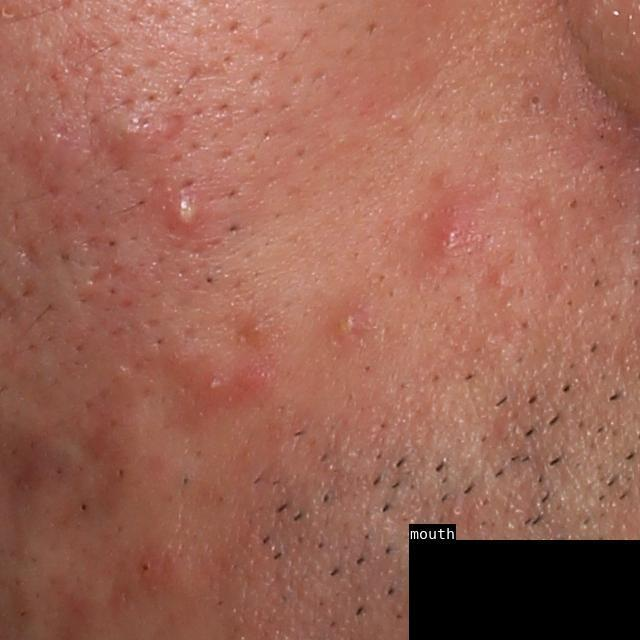comedo: (527, 90, 544, 110)
papule: (20, 124, 95, 183), (92, 102, 157, 162), (238, 369, 270, 396)
pustule: (161, 184, 206, 232), (329, 304, 364, 343)
